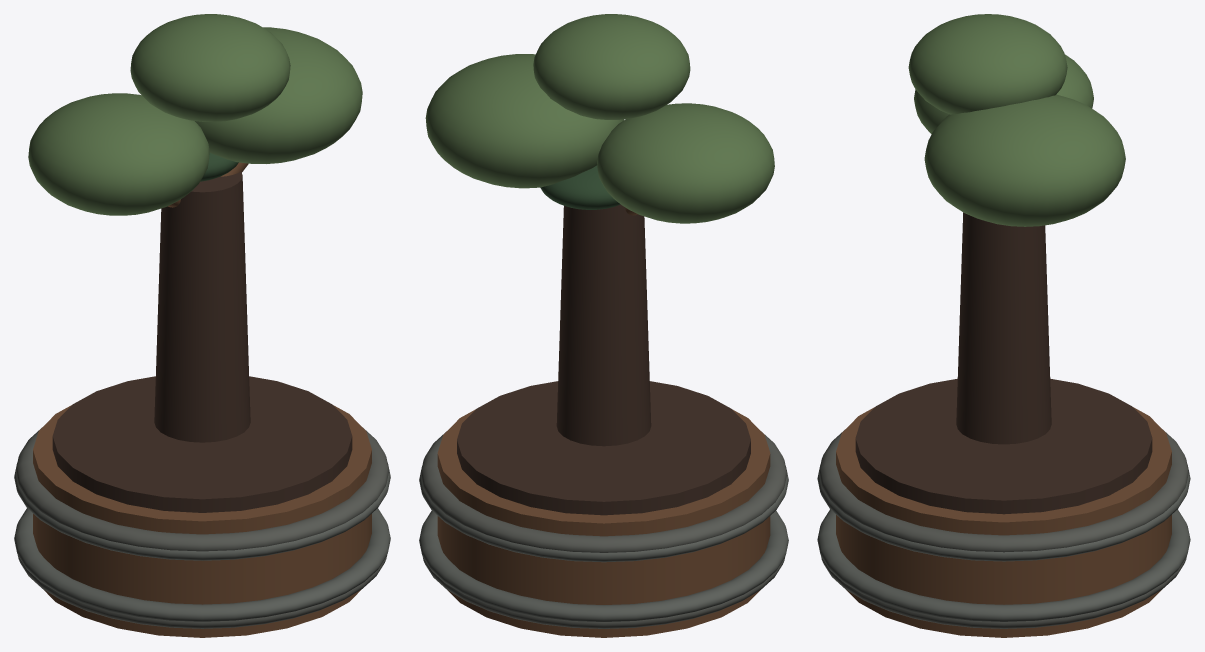
Rendered from detail_street_planter.glb.
3 renders of one model, left to right at view 1: azimuth 30°, elevation 25°; view 2: azimuth 150°, elevation 25°; view 3: azimuth 270°, elevation 25°, orthographic.
Visible parts, largest first — view 1: plaster, metal, object 3; view 2: plaster, metal, object 3; view 3: plaster, metal.
Part boxes in pixels (<box>): plaster: <box>28,14,371,637</box>; metal: <box>14,428,390,628</box>; object 3: <box>200,153,238,181</box>; plaster: <box>425,14,774,637</box>; metal: <box>419,431,788,628</box>; object 3: <box>540,165,620,209</box>; plaster: <box>836,14,1171,637</box>; metal: <box>817,430,1190,628</box>.
Bounding box in the file's own units: 1 × 1.6 × 1.
